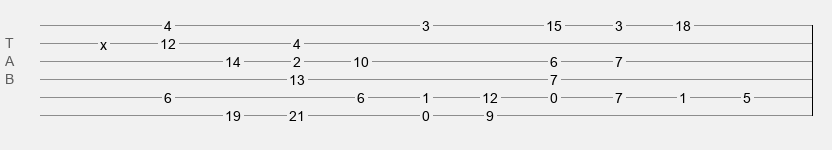0: (422, 108, 430, 118), (550, 90, 558, 100)
1: (422, 90, 430, 100), (679, 90, 687, 100)
10: (353, 54, 369, 64)
12: (160, 36, 176, 46), (482, 90, 498, 100)
13: (289, 72, 305, 82)
14: (225, 54, 241, 64)
15: (546, 18, 562, 28)
18: (675, 18, 691, 28)
19: (225, 108, 241, 118)
2: (293, 54, 301, 64)
21: (289, 108, 305, 118)
3: (422, 18, 430, 28), (615, 18, 623, 28)
4: (164, 18, 172, 28), (293, 36, 301, 46)
5: (743, 90, 751, 100)
6: (164, 90, 172, 100), (357, 90, 365, 100), (550, 54, 558, 64)
7: (550, 72, 558, 82), (615, 90, 623, 100), (615, 54, 623, 64)
9: (486, 108, 494, 118)
x: (100, 37, 107, 45)
